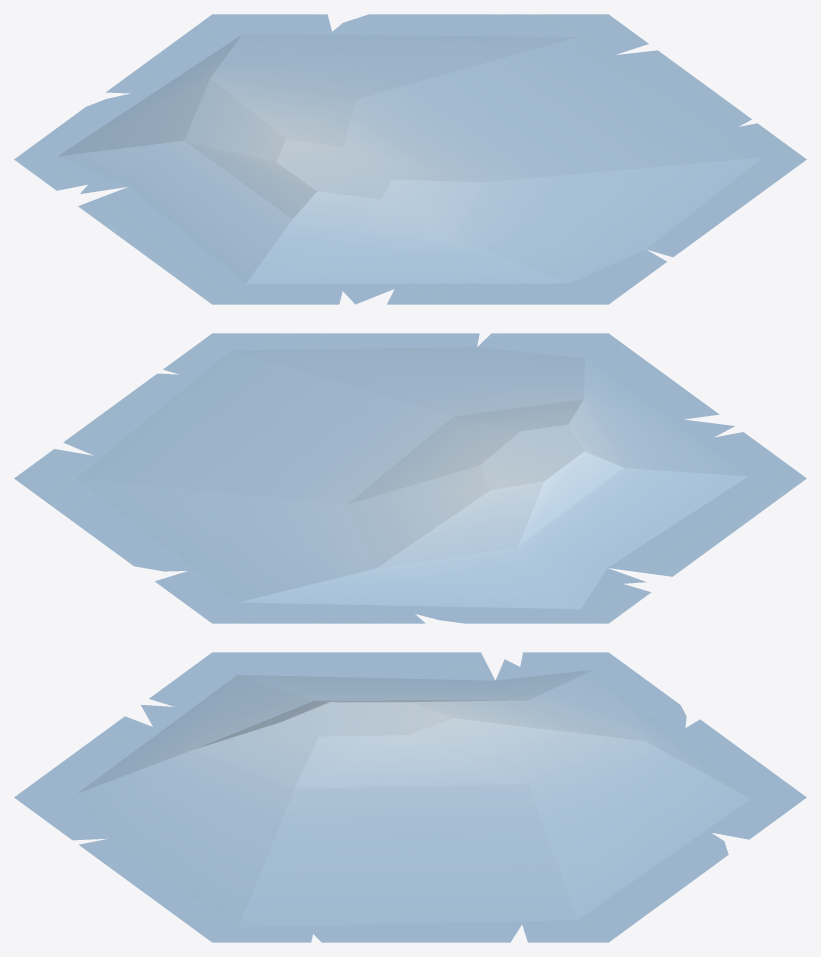
File: snow-plain.glb
3 views of the same model, one above another, from view 1: azimuth 30°, elevation 25°; view 2: azimuth 150°, elevation 25°; view 3: azimuth 270°, elevation 25° (orthographic).
Visible parts, largest first — view 1: plane; view 2: plane; view 3: plane.
Boxes of the visible parts, <box> form: plane: <box>14,14,806,304</box>; plane: <box>14,333,806,623</box>; plane: <box>14,652,806,942</box>.
Bounding box in the file's own units: 1.73 × 0.0839 × 2.
Materials: 1 (1 with a texture image).
